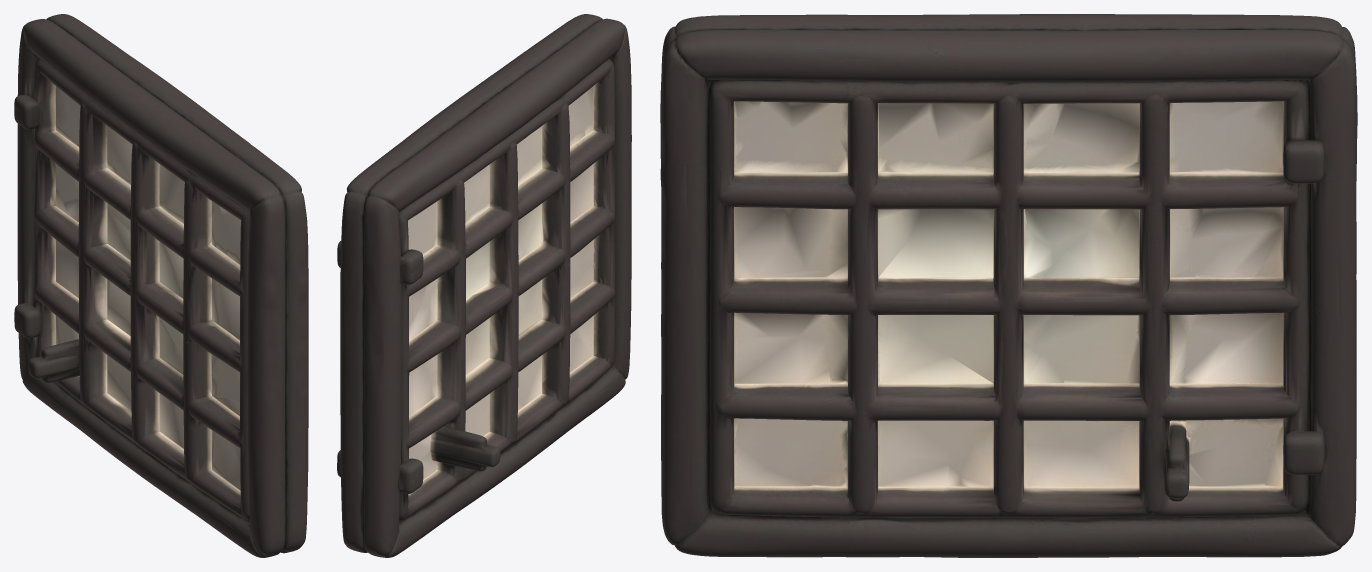
Rendered from KR_사물_s1_wall_changho_old.glb.
3 renders of one model, left to right at view 1: azimuth 30°, elevation 25°; view 2: azimuth 150°, elevation 25°; view 3: azimuth 270°, elevation 25°, orthographic. The views are drawn at different scales.
Parts seen in each view (by area): view 1: tripo_node_081da909-9af0-41c8-8169-676eee9ef1d3; view 2: tripo_node_081da909-9af0-41c8-8169-676eee9ef1d3; view 3: tripo_node_081da909-9af0-41c8-8169-676eee9ef1d3.
Boxes of the visible parts, <box> form: tripo_node_081da909-9af0-41c8-8169-676eee9ef1d3: <box>14,14,308,557</box>; tripo_node_081da909-9af0-41c8-8169-676eee9ef1d3: <box>337,14,631,557</box>; tripo_node_081da909-9af0-41c8-8169-676eee9ef1d3: <box>660,14,1357,557</box>.
Size of the model in its own units: 0.3326 by 0.8218 by 0.9999.
Materials: 1 (1 with a texture image).
